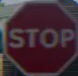Stop: (1, 4, 73, 61)
